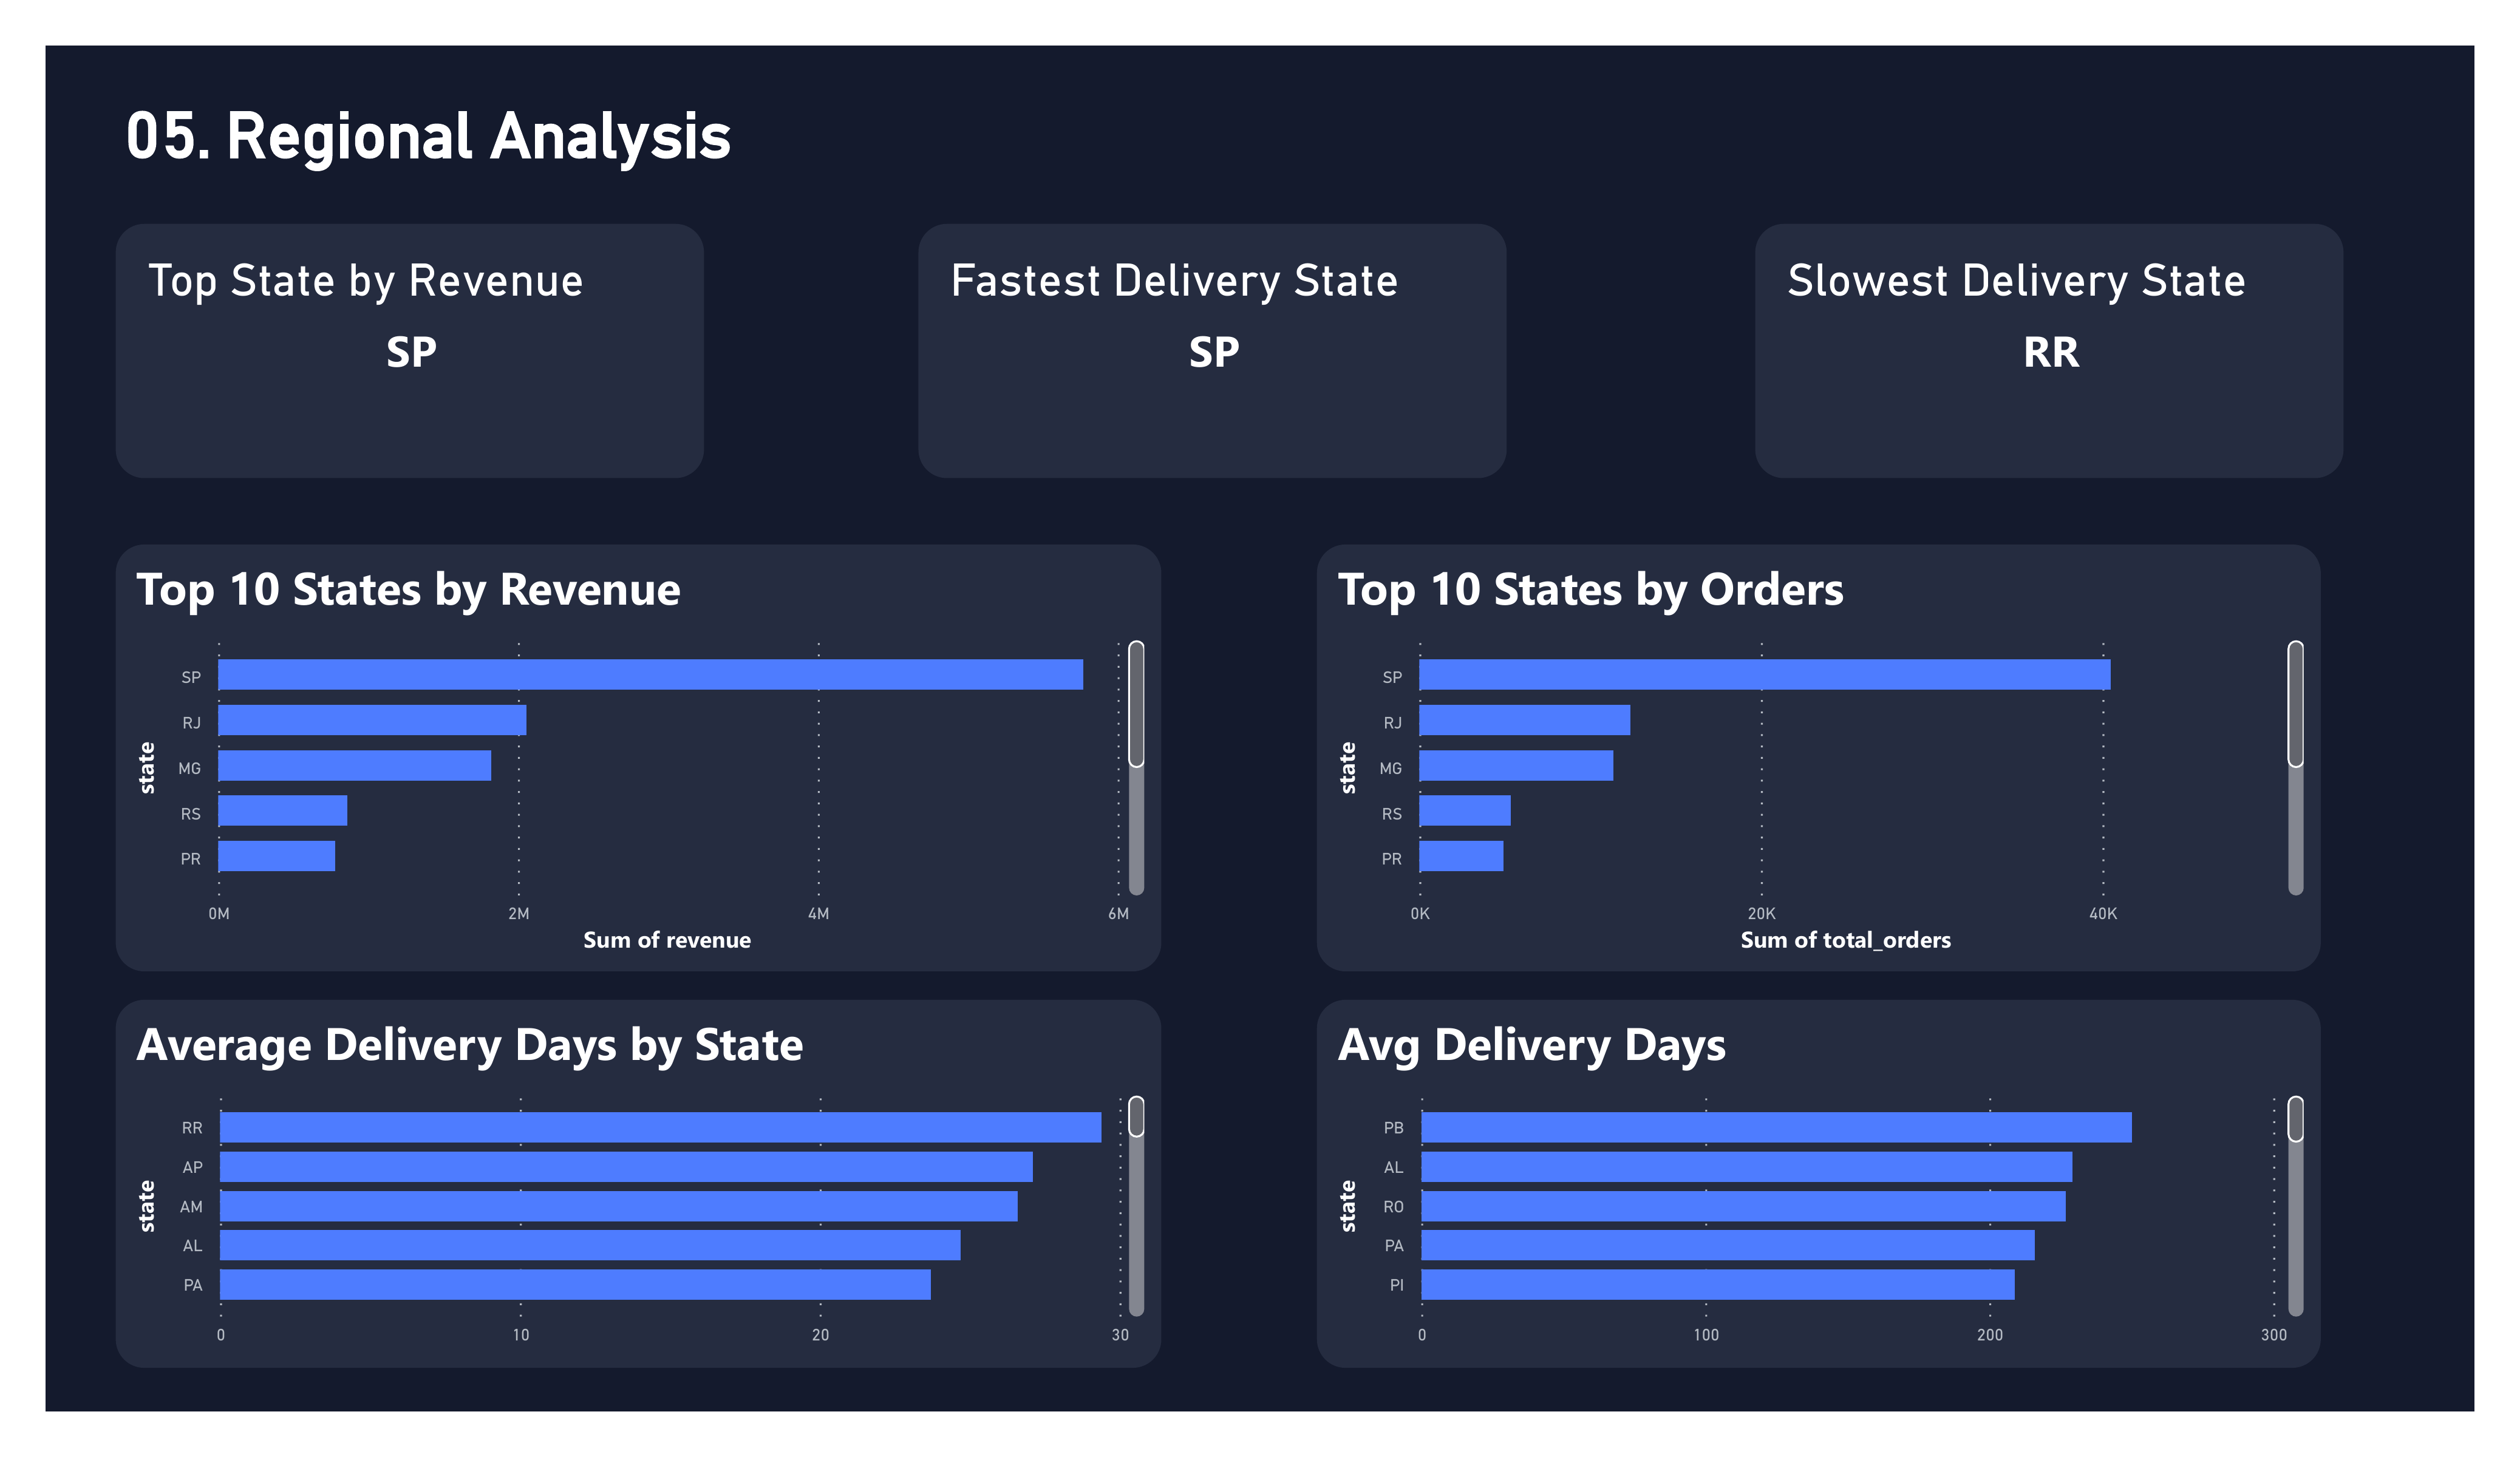

The dashboard page shown, as its layout file describes it:
{"tool":"powerbi","page":{"name":"05. Regional Analysis","canvas":[1280,720],"ordinal":4},"visuals":[{"type":"clusteredBarChart","title":"Top 10 States by Revenue","fields":{"Y":["Sum(state_analysis.revenue)"],"Category":["state_analysis.state"]},"box":[36.9,263.2,551,224.7],"z":0},{"type":"textbox","box":[37.5,23.4,411.2,50.4],"z":1000},{"type":"clusteredBarChart","title":"Top 10 States by Orders","fields":{"Y":["Sum(state_analysis.total_orders)"],"Category":["state_analysis.state"]},"box":[669.6,263.2,529.5,224.7],"z":2000},{"type":"group","id":"g1","title":"Group 3","box":[37.5,93.7,310.4,133.6],"z":3000},{"type":"group","id":"g2","title":"Group 3","box":[460.4,93.7,310.4,133.6],"z":4000},{"type":"card","fields":{"Values":["Min(fastest_delivery_state.state)"]},"box":[37.5,93.7,310.4,133.6],"z":5000,"group":"g1"},{"type":"card","fields":{"Values":["Min(fastest_delivery_state.state)"]},"box":[460.4,93.7,310.4,133.6],"z":5000,"group":"g2"},{"type":"group","id":"g3","title":"Group 3","box":[900.9,93.7,310.4,133.6],"z":5000},{"type":"card","fields":{"Values":["Min(slowest_delivery_state.state)"]},"box":[900.9,93.7,310.4,133.6],"z":5000,"group":"g3"},{"type":"group","id":"g4","title":"Group 2","box":[49.2,104.2,287,38.7],"z":6000,"group":"g1"},{"type":"textbox","box":[49.2,104.2,287,38.7],"z":6000,"group":"g4"},{"type":"group","id":"g5","title":"Group 2","box":[472.1,104.2,287,38.7],"z":6000,"group":"g2"},{"type":"textbox","box":[472.1,104.2,287,38.7],"z":6000,"group":"g5"},{"type":"group","id":"g6","title":"Group 2","box":[912.6,104.2,287,38.7],"z":6000,"group":"g3"},{"type":"textbox","box":[912.6,104.2,287,38.7],"z":6000,"group":"g6"},{"type":"clusteredBarChart","title":"Average Delivery Days by State","fields":{"Category":["state_analysis.state"],"Y":["Sum(state_analysis.avg_delivery_days)"]},"box":[36.9,503.3,551,193.9],"z":6000},{"type":"clusteredBarChart","title":"Avg Delivery Days","fields":{"Y":["Sum(state_avg_order.avg_order_value)"],"Category":["state_avg_order.state"]},"box":[669.6,503.3,529.5,193.9],"z":7000}]}

Visuals, with their boxes on the page's 1280x720 design canvas (x1, y1, x2, y2). These are canvas units, not pixel positions in the 2520x1457 screenshot, which may show the page scaled, cropped or inside an application window:
"Top 10 States by Revenue" clusteredBarChart: (x1=37, y1=263, x2=588, y2=488)
textbox: (x1=38, y1=23, x2=449, y2=74)
"Top 10 States by Orders" clusteredBarChart: (x1=670, y1=263, x2=1199, y2=488)
"Group 3" group: (x1=38, y1=94, x2=348, y2=227)
"Group 3" group: (x1=460, y1=94, x2=771, y2=227)
card - Min(fastest_delivery_state.state): (x1=38, y1=94, x2=348, y2=227)
card - Min(fastest_delivery_state.state): (x1=460, y1=94, x2=771, y2=227)
"Group 3" group: (x1=901, y1=94, x2=1211, y2=227)
card - Min(slowest_delivery_state.state): (x1=901, y1=94, x2=1211, y2=227)
"Group 2" group: (x1=49, y1=104, x2=336, y2=143)
textbox: (x1=49, y1=104, x2=336, y2=143)
"Group 2" group: (x1=472, y1=104, x2=759, y2=143)
textbox: (x1=472, y1=104, x2=759, y2=143)
"Group 2" group: (x1=913, y1=104, x2=1200, y2=143)
textbox: (x1=913, y1=104, x2=1200, y2=143)
"Average Delivery Days by State" clusteredBarChart: (x1=37, y1=503, x2=588, y2=697)
"Avg Delivery Days" clusteredBarChart: (x1=670, y1=503, x2=1199, y2=697)
